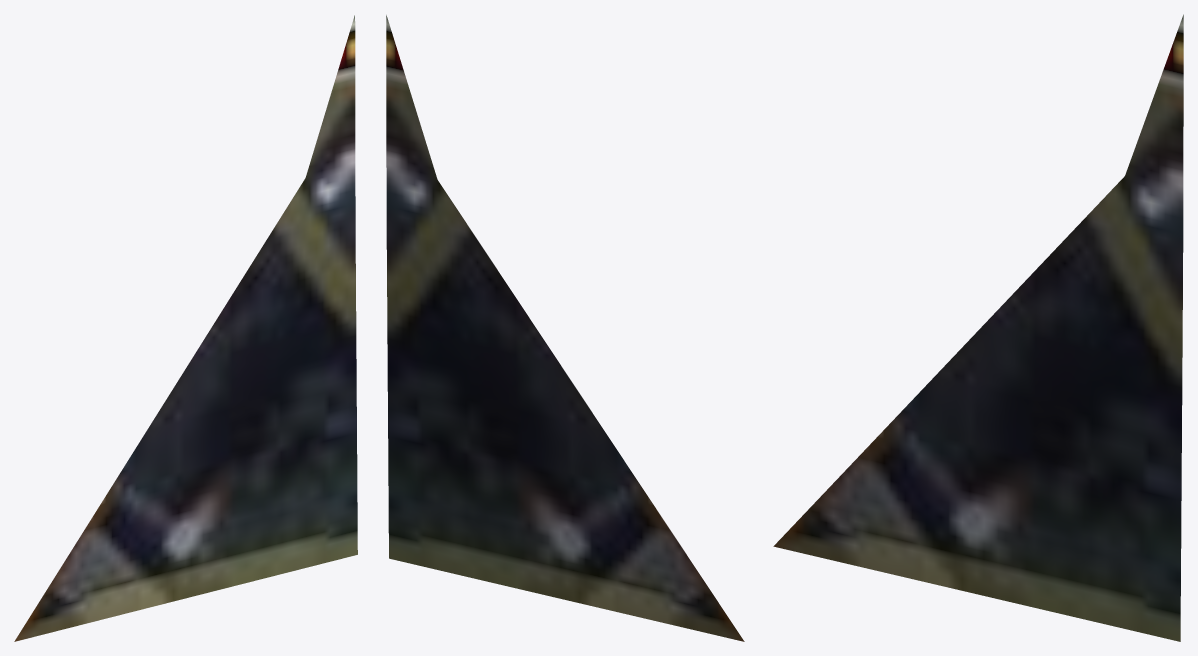
3 renders of one model, left to right at view 1: azimuth 30°, elevation 25°; view 2: azimuth 150°, elevation 25°; view 3: azimuth 330°, elevation 25°, orthographic. The views are drawn at different scales.
Parts seen in each view (by area): view 1: 0_0_3_1_1_1; view 2: 0_0_3_1_1_1; view 3: 0_0_3_1_1_1.
Boxes of the visible parts, x1,y1,x2,y2 form: 0_0_3_1_1_1: (14,15,357,641); 0_0_3_1_1_1: (386,15,744,641); 0_0_3_1_1_1: (773,14,1183,641).
Bounding box in the file's own units: 31.24 × 46.33 × 0.9601.
Materials: 1 (1 with a texture image).
